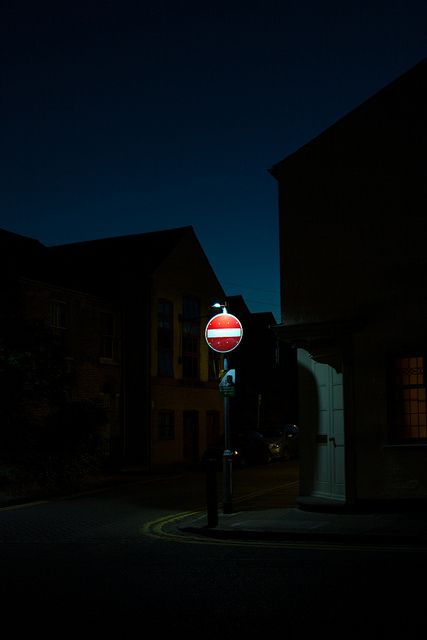car: (266, 421, 308, 461)
